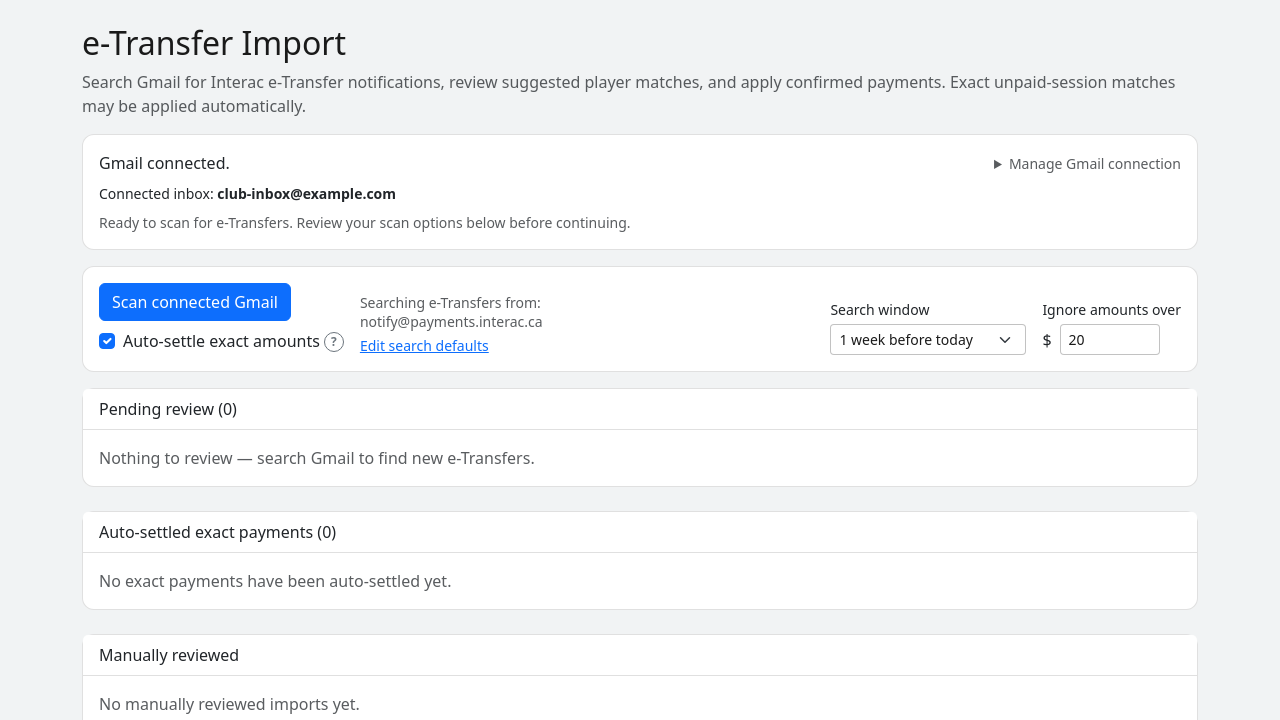
Scenario: EtransfersPage › shows the connected Gmail inbox separately from the app account and clears it on disconnect
Expected: the text "club-inbox@example.com" is shown, [217,184,396,203]
Expected: the text "Connected inbox: club-inbox@example.com" is shown, [99,184,396,203]
What coordinates should you click on to do the following:
click the heading "Manage Gmail connection"
I would click on:
 (1088, 163)
Its box is [994,153,1181,174].
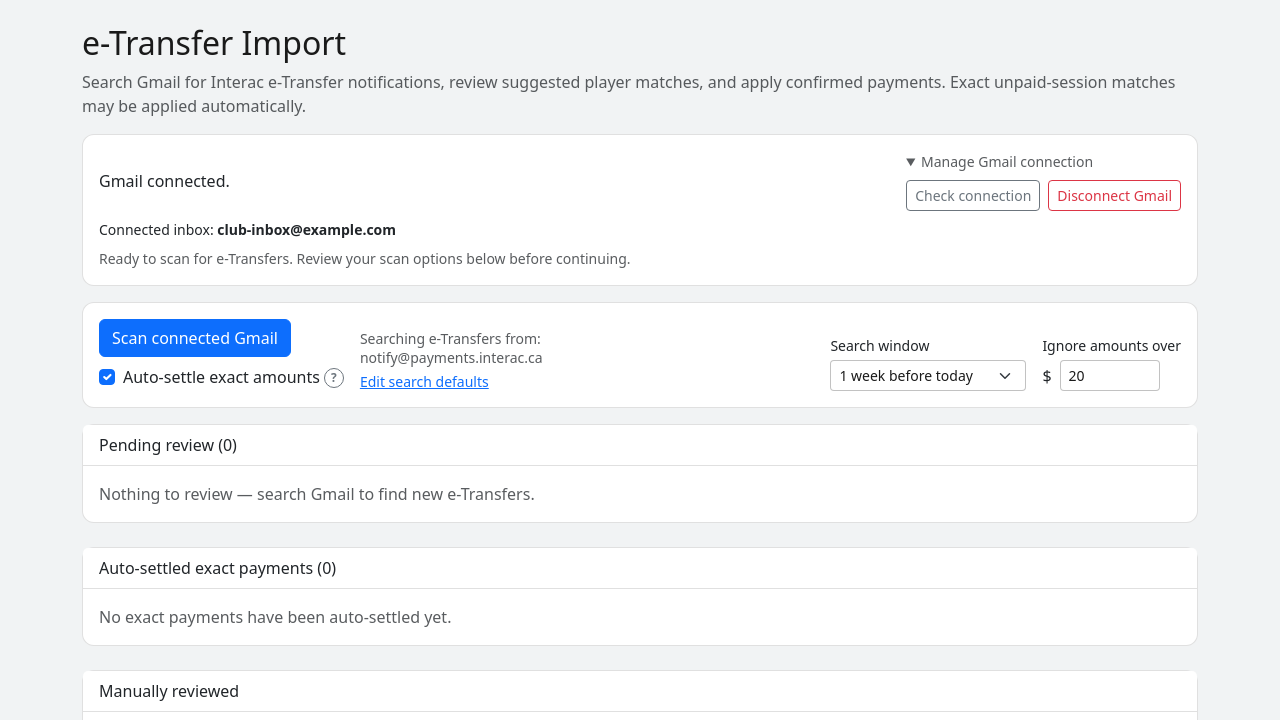
What coordinates should you click on to do the following:
click the button "Disconnect Gmail"
I would click on:
 (1115, 196)
Its box is [1048,180,1181,211].
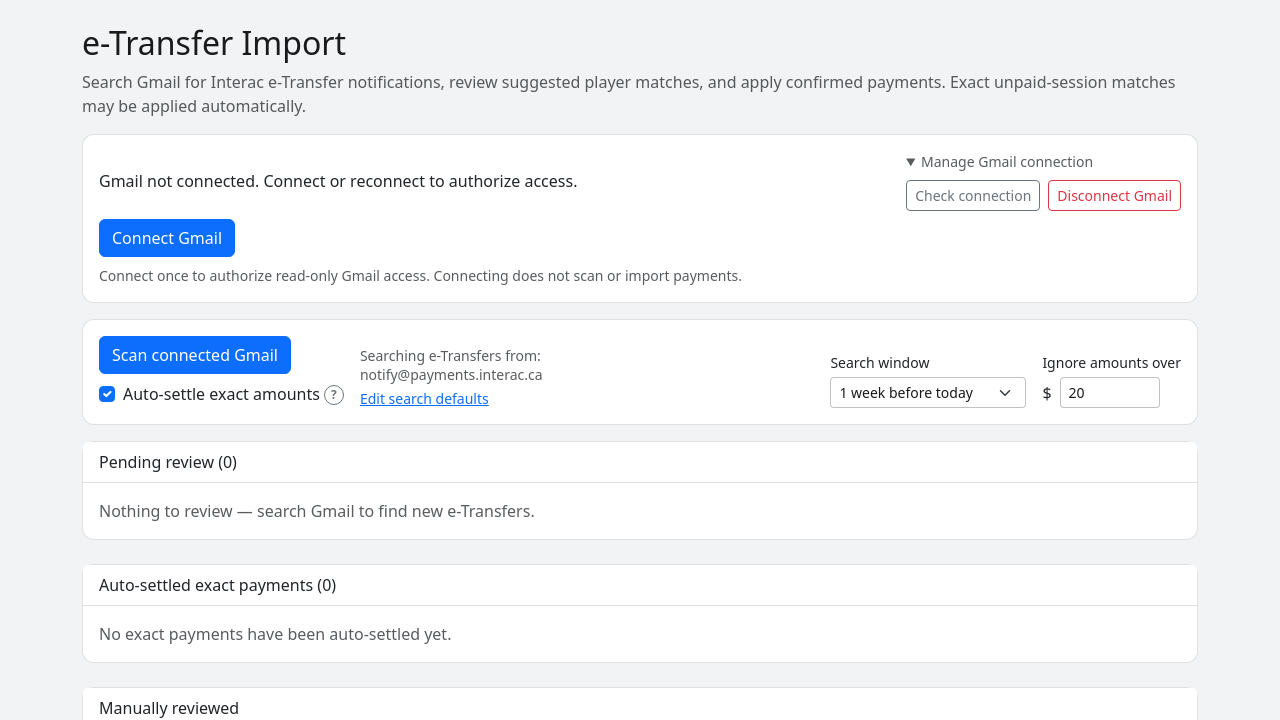
Now the text "club-inbox@example.com" is gone
